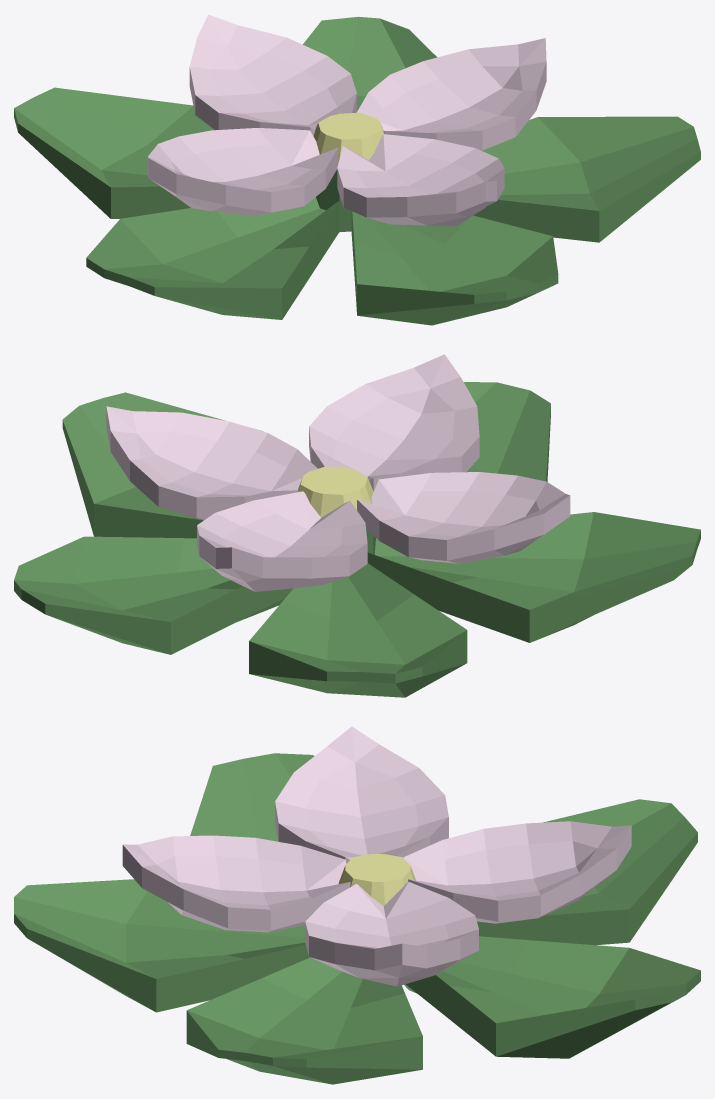
The model's file is Flower2.fbx.
The picture shows the model from 3 angles, top to bottom: view 1: azimuth 30°, elevation 25°; view 2: azimuth 150°, elevation 25°; view 3: azimuth 270°, elevation 25°; orthographic projection. The views are drawn at different scales.
Visible parts, largest first — view 1: Flower2; view 2: Flower2; view 3: Flower2.
Part boxes in pixels (left/top/right/bottom): Flower2: left=14, top=14, right=700, bottom=325; Flower2: left=14, top=354, right=700, bottom=697; Flower2: left=14, top=726, right=700, bottom=1084.
Bounding box in the file's own units: 121 × 26.02 × 116.
